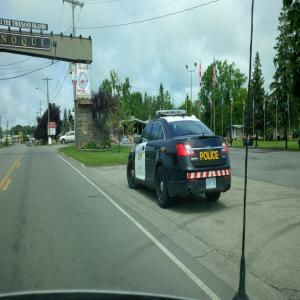Vehicle-registration-plate: (206, 177, 218, 189)
